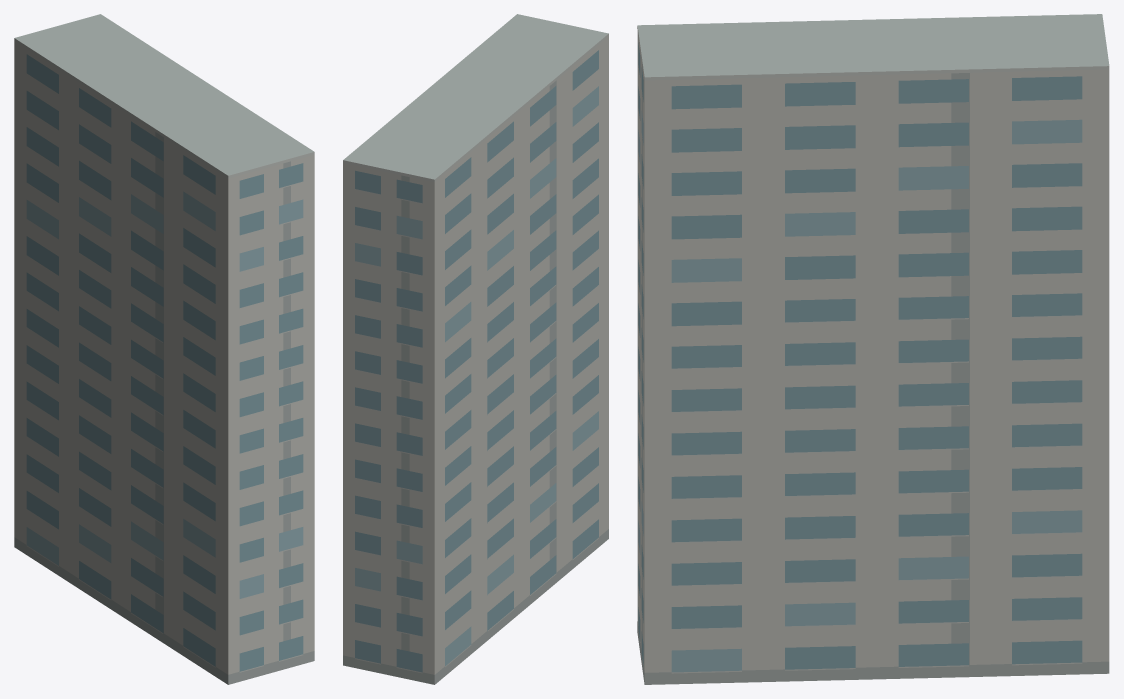
The model's file is residential-68a3f296-dffc-4496-9eb6-efc7f1f3878a.glb.
The picture shows the model from 3 angles, left to right: view 1: azimuth 30°, elevation 25°; view 2: azimuth 150°, elevation 25°; view 3: azimuth 270°, elevation 25°; orthographic projection. The views are drawn at different scales.
Parts seen in each view (by area): view 1: residential-68a3f296-dffc-4496-9eb6-efc7f1f3878a.tmp; view 2: residential-68a3f296-dffc-4496-9eb6-efc7f1f3878a.tmp; view 3: residential-68a3f296-dffc-4496-9eb6-efc7f1f3878a.tmp.
Part boxes in pixels (x1,y1,x2,y2): residential-68a3f296-dffc-4496-9eb6-efc7f1f3878a.tmp: [14, 14, 314, 684]; residential-68a3f296-dffc-4496-9eb6-efc7f1f3878a.tmp: [343, 14, 608, 684]; residential-68a3f296-dffc-4496-9eb6-efc7f1f3878a.tmp: [637, 14, 1109, 684].
Bounding box in the file's own units: 9.62 × 43 × 30.28.
